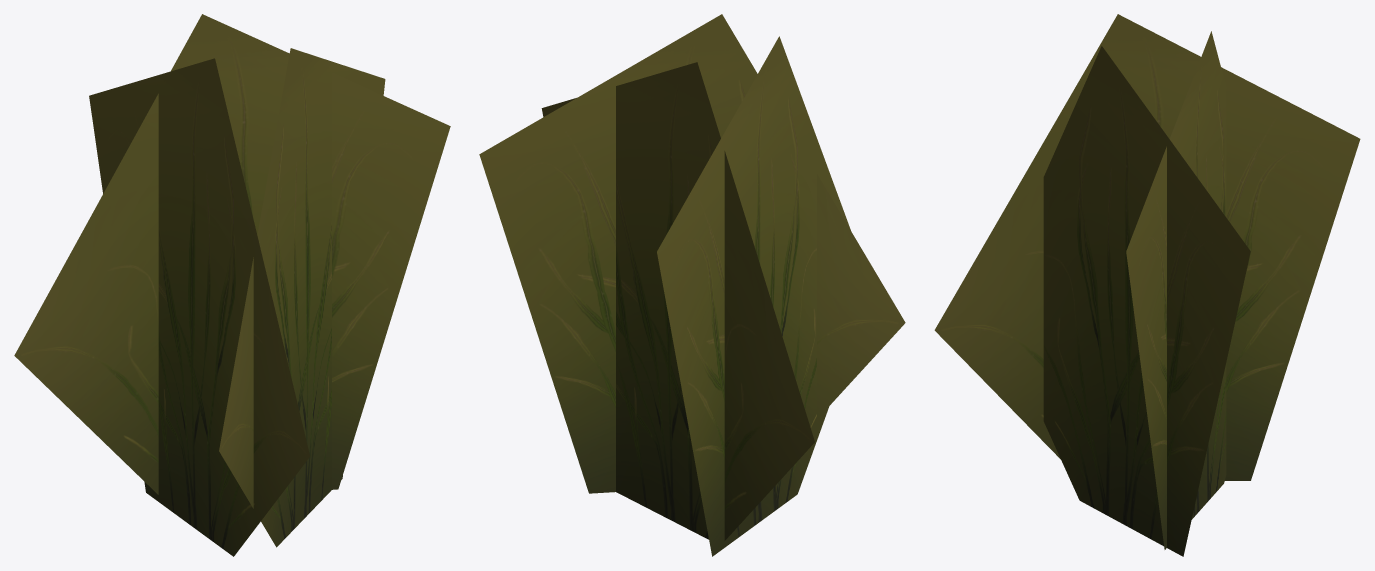
Rendered from grass3_lod1.glb.
3 renders of one model, left to right at view 1: azimuth 30°, elevation 25°; view 2: azimuth 150°, elevation 25°; view 3: azimuth 270°, elevation 25°, orthographic. The views are drawn at different scales.
Visible parts, largest first — view 1: grass3_LOD1; view 2: grass3_LOD1; view 3: grass3_LOD1.
Part boxes in pixels (x1=…): grass3_LOD1: x1=14, y1=14, x2=450, y2=556; grass3_LOD1: x1=479, y1=14, x2=905, y2=556; grass3_LOD1: x1=934, y1=14, x2=1360, y2=556.
Bounding box in the file's own units: 0.774 × 1 × 0.8267.
Materials: 1 (1 with a texture image).
